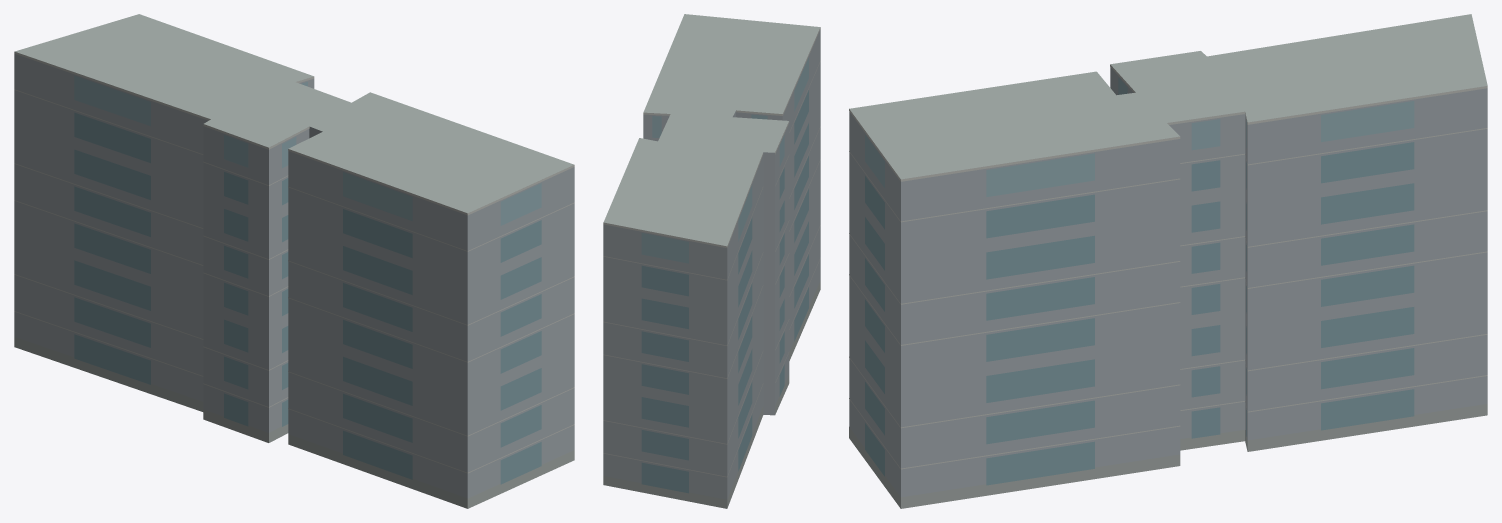
File: survey-upis-33041385.glb
3 renders of one model, left to right at view 1: azimuth 30°, elevation 25°; view 2: azimuth 150°, elevation 25°; view 3: azimuth 270°, elevation 25°, orthographic. The views are drawn at different scales.
Parts seen in each view (by area): view 1: survey-upis-33041385.tmp; view 2: survey-upis-33041385.tmp; view 3: survey-upis-33041385.tmp.
Part boxes in pixels (<box>): survey-upis-33041385.tmp: <box>14,14,574,508</box>; survey-upis-33041385.tmp: <box>603,14,820,508</box>; survey-upis-33041385.tmp: <box>849,14,1487,508</box>.
Bounding box in the file's own units: 35.99 × 33.4 × 58.69.
